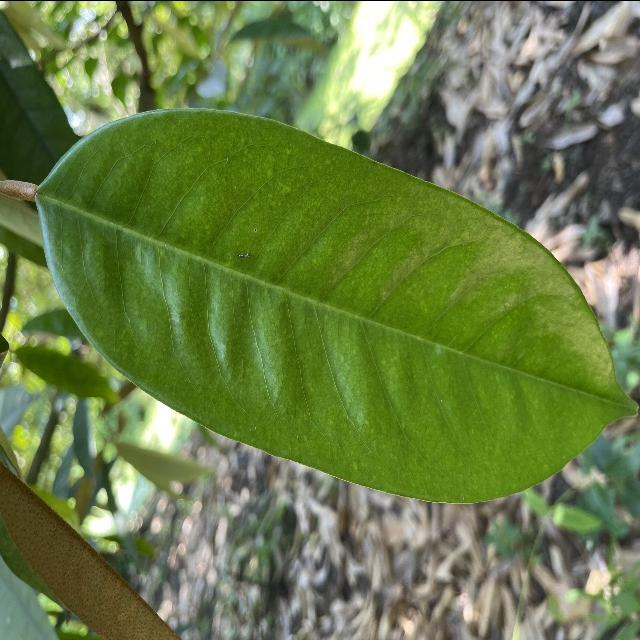No Disease: (35, 99, 639, 509)
